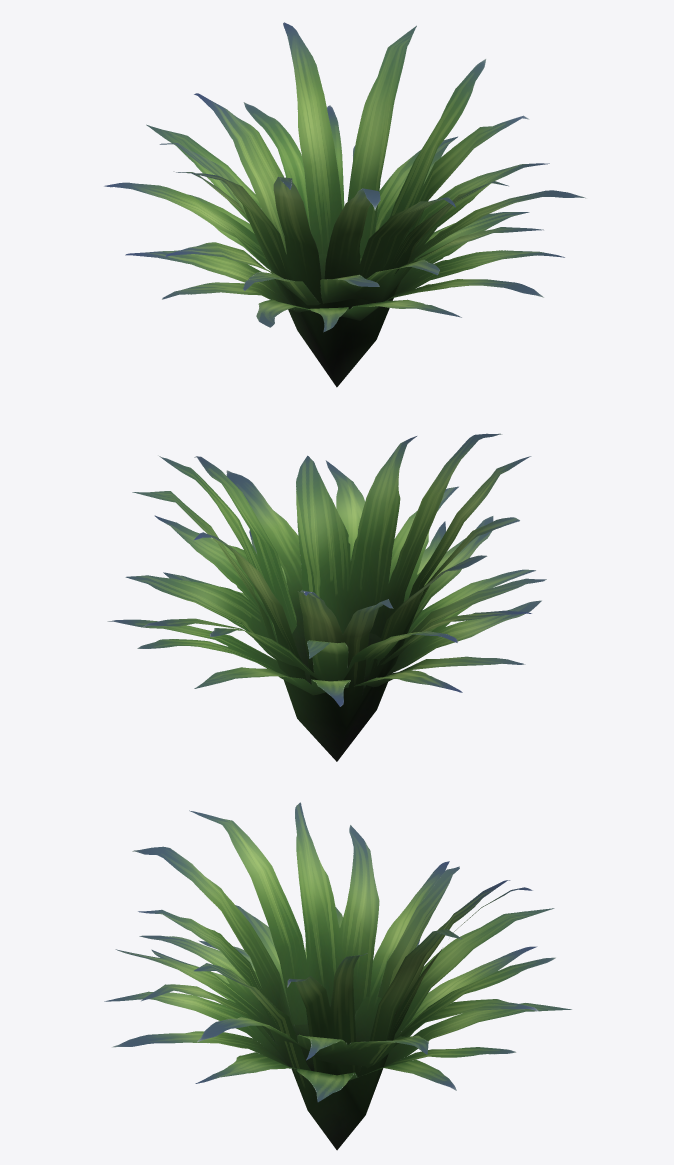
File: grassclump.fbx
3 views of the same model, one above another, from view 1: azimuth 30°, elevation 25°; view 2: azimuth 150°, elevation 25°; view 3: azimuth 270°, elevation 25° (orthographic).
Parts seen in each view (by area): view 1: group3; view 2: group3; view 3: group3.
Boxes of the visible parts, x1,y1,x2,y2 form: group3: (104, 22, 586, 387); group3: (107, 433, 546, 761); group3: (104, 802, 571, 1150).
Bounding box in the file's own units: 7.8 × 3.78 × 7.8.
Materials: 1 (1 with a texture image).
